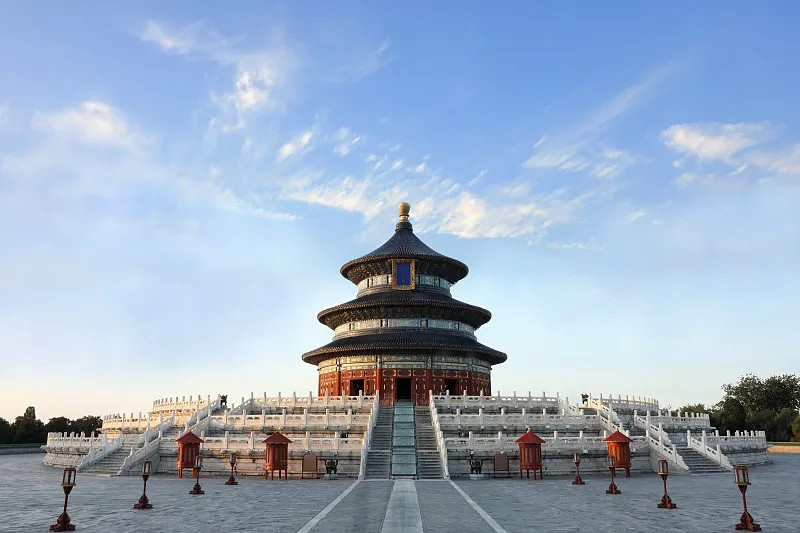Heaven: (302, 202, 507, 407)
